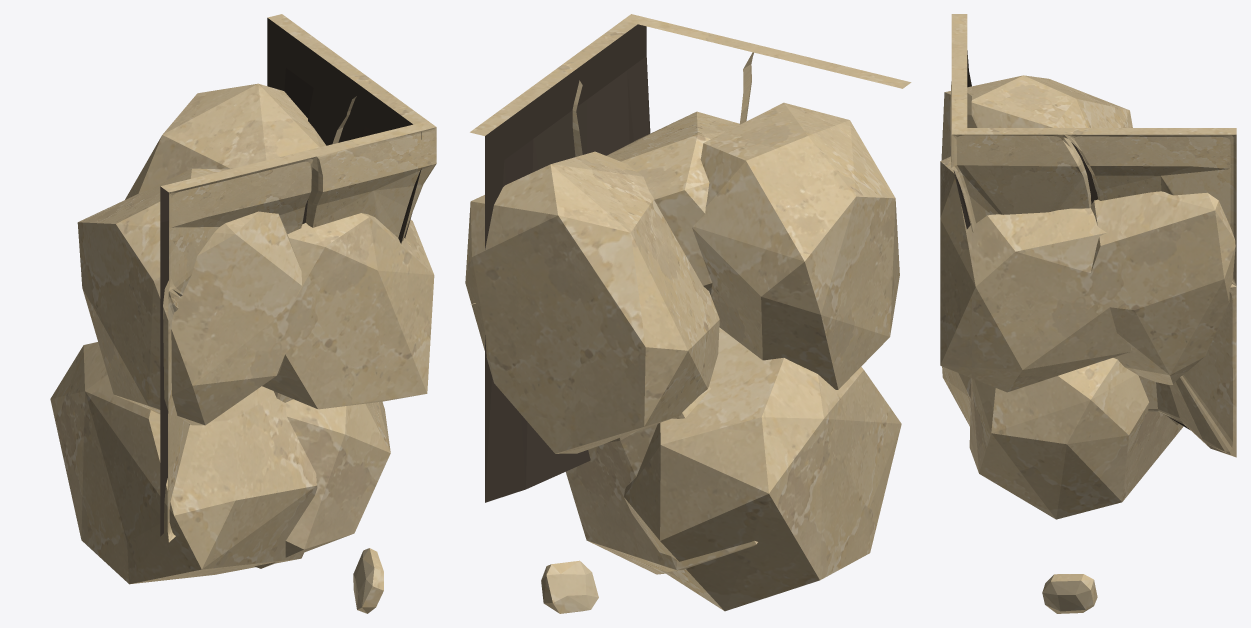
The model's file is ground_bottom_corner_10.glb.
3 views of the same model, side by side, from view 1: azimuth 30°, elevation 25°; view 2: azimuth 150°, elevation 25°; view 3: azimuth 270°, elevation 25° (orthographic). The views are drawn at different scales.
Parts seen in each view (by area): view 1: GroundBottomCorner10_Body; view 2: GroundBottomCorner10_Body; view 3: GroundBottomCorner10_Body.
Boxes of the visible parts, x1,y1,x2,y2 form: GroundBottomCorner10_Body: (50,14,436,613); GroundBottomCorner10_Body: (465,14,911,613); GroundBottomCorner10_Body: (940,14,1236,613).
Size of the model in its own units: 1.04 by 1.88 by 1.04.
9 materials, 8 textured.
